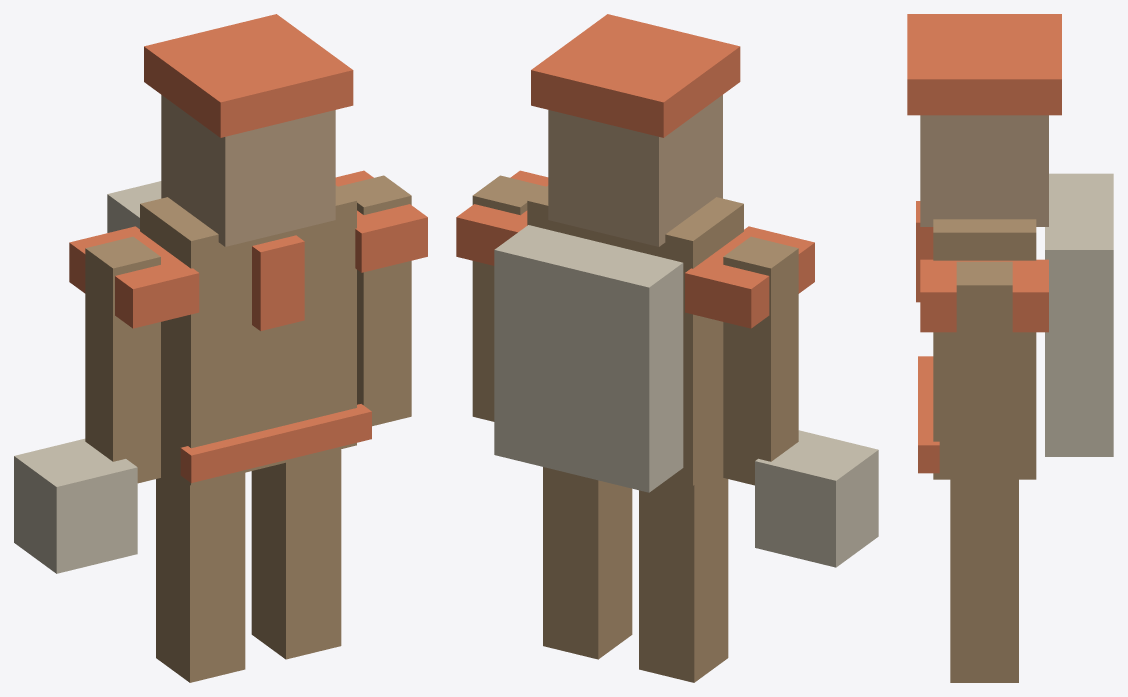
File: 11_bex_riftwalker_watcher_at_simulation.glb
3 views of the same model, side by side, from view 1: azimuth 30°, elevation 25°; view 2: azimuth 150°, elevation 25°; view 3: azimuth 270°, elevation 25° (orthographic).
Parts seen in each view (by area): view 1: Bex Riftwalker, Watcher at Simulation; view 2: Bex Riftwalker, Watcher at Simulation; view 3: Bex Riftwalker, Watcher at Simulation.
Part boxes in pixels (<box>): Bex Riftwalker, Watcher at Simulation: <box>14,14,427,682</box>; Bex Riftwalker, Watcher at Simulation: <box>456,14,878,682</box>; Bex Riftwalker, Watcher at Simulation: <box>907,14,1113,682</box>.
Bounding box in the file's own units: 0.9367 × 1.45 × 0.4519.
